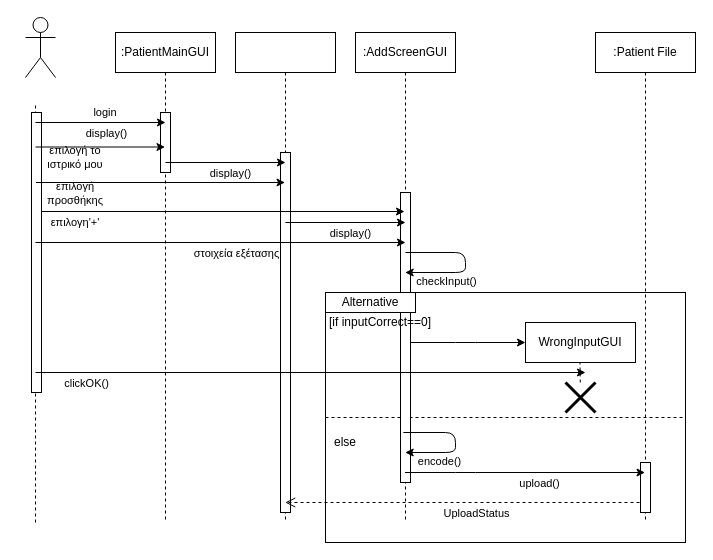
This 713x560 diagram has some shape labels left out. Here are the shapes that lost their labels. From the top down, the box of each, then its label:
(24, 16, 56, 78): Ασθενής
(234, 32, 336, 522): :HistoryMainGUI
